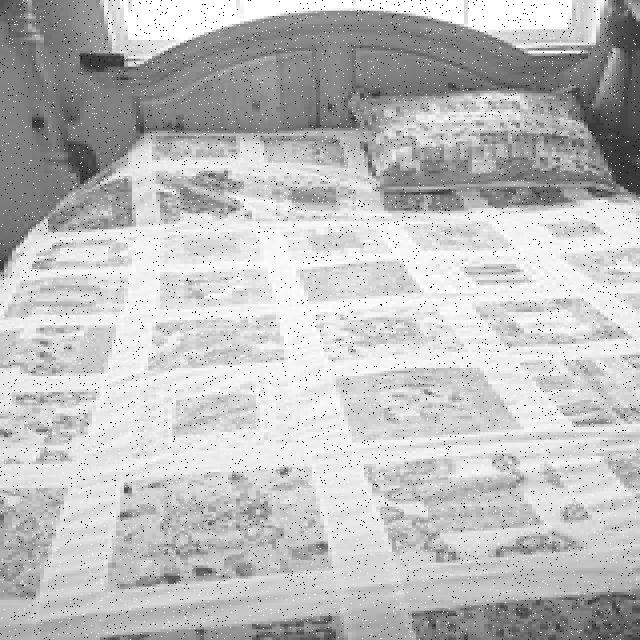bed: (7, 88, 640, 640)
